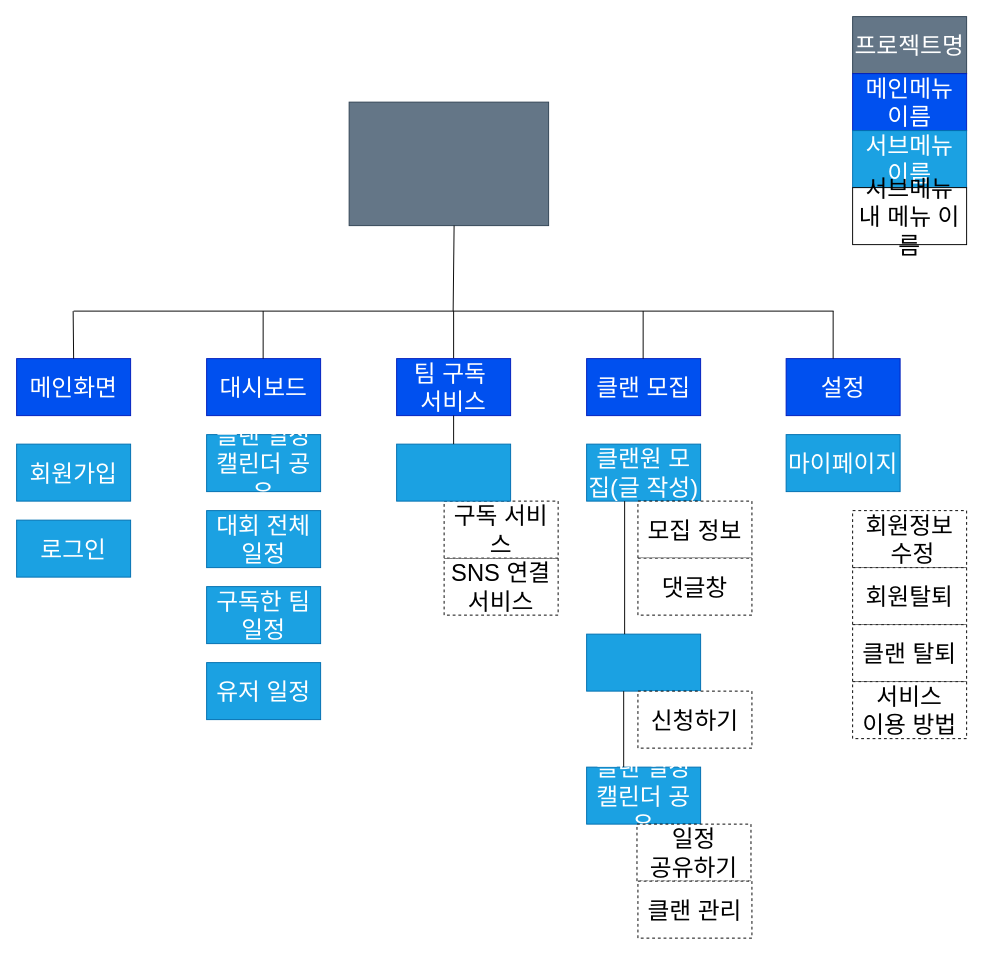
Some shapes in this 983 by 955 pixel diagram are drawn without their labels. Here are the shapes that lost their labels. From the top down, the centre of each, then its label:
At pixel 448 163: "Game Event Tracker".
At pixel 453 472: "팀 관련정보".
At pixel 643 662: "클랜 참여".
